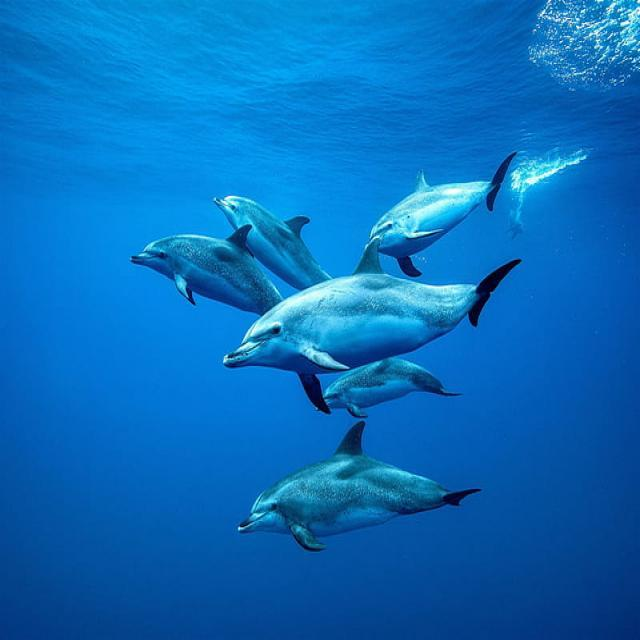dolphin: (196, 254, 554, 386), (219, 425, 523, 561), (146, 216, 288, 314)
